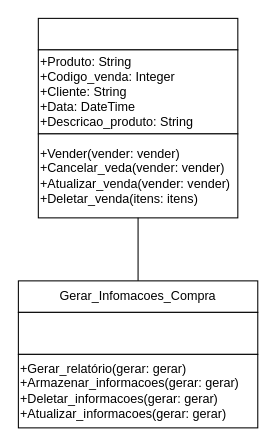
This 276x446 diagram has some shape labels left out. The centre of each missing label's shape, as x and y in pixels:
"+codigo_transacao: integer +quantidade_itens: integer" goes at point 137,332.
"Vender" goes at point 137,33.
